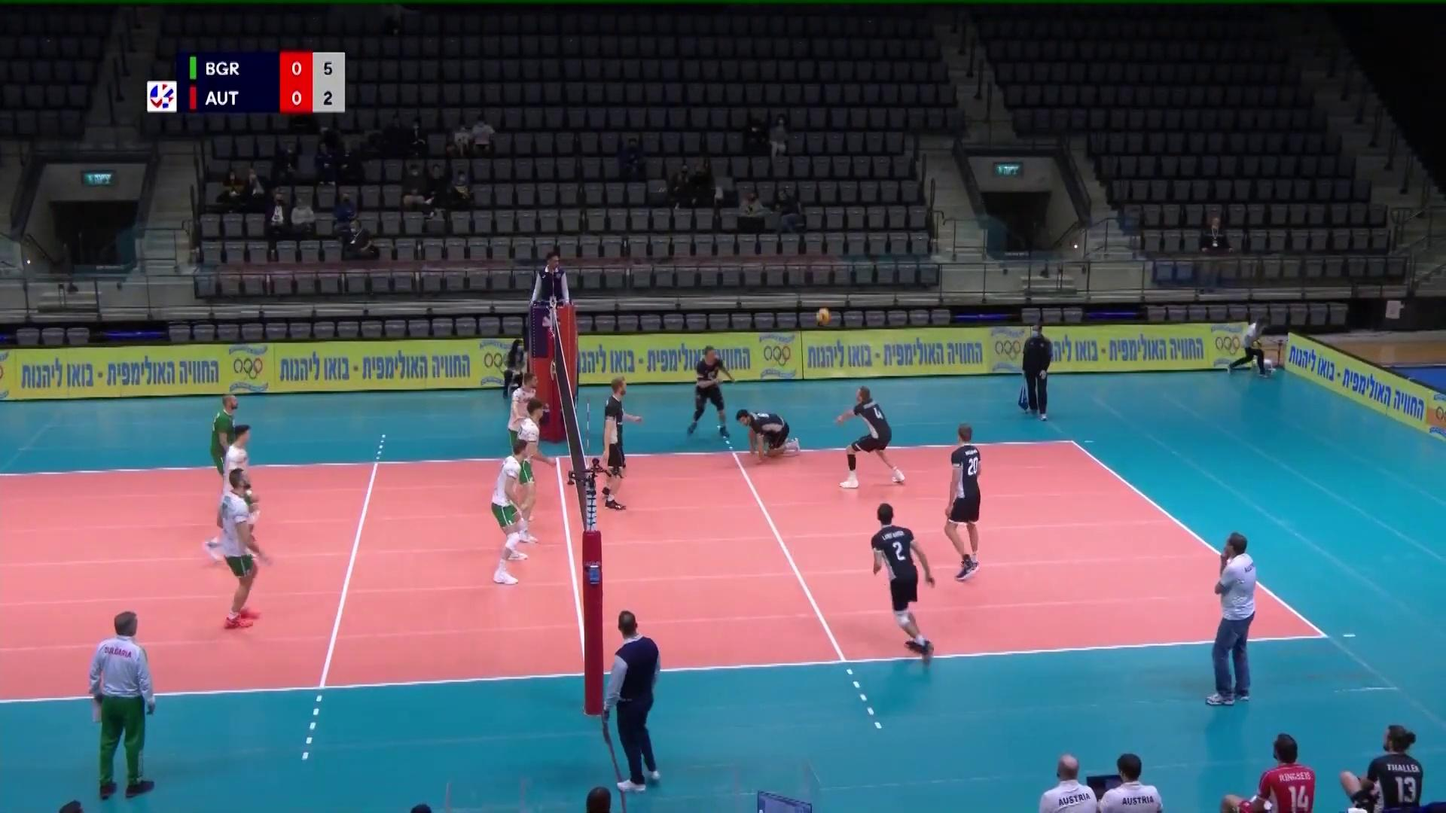ball: (817, 308, 831, 325)
